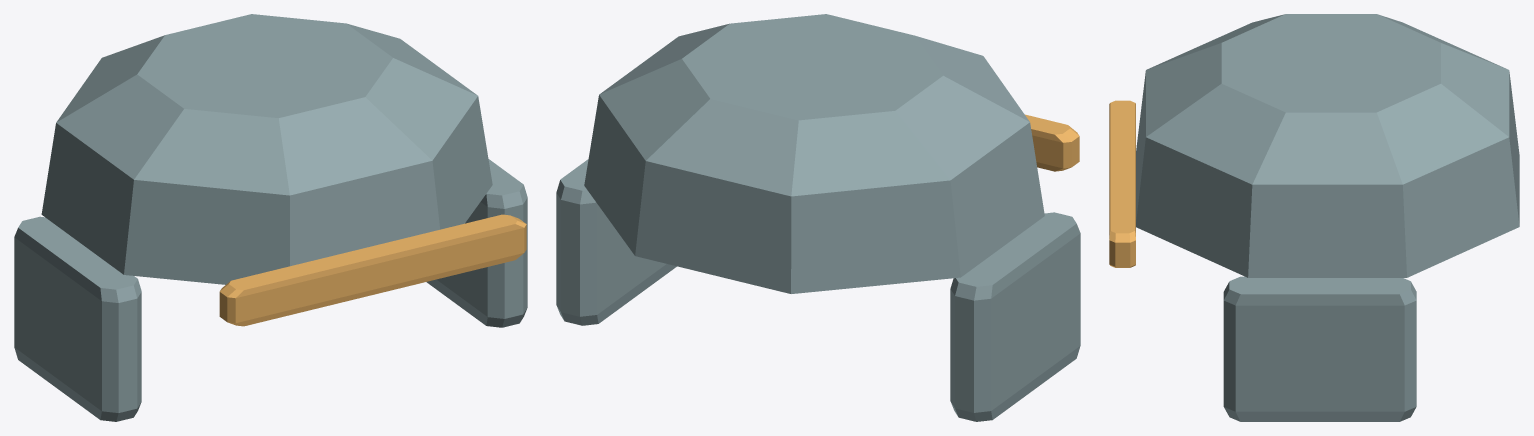
The model's file is SM_NPC_HEADGEAR_001_MilitaryHelmet.glb.
3 renders of one model, left to right at view 1: azimuth 30°, elevation 25°; view 2: azimuth 150°, elevation 25°; view 3: azimuth 270°, elevation 25°, orthographic. The views are drawn at different scales.
Parts seen in each view (by area): view 1: SM_NPC_HEADGEAR_001_MilitaryHelmet; view 2: SM_NPC_HEADGEAR_001_MilitaryHelmet; view 3: SM_NPC_HEADGEAR_001_MilitaryHelmet.
Part boxes in pixels (x1,y1,x2,y2): SM_NPC_HEADGEAR_001_MilitaryHelmet: (14, 14, 527, 421); SM_NPC_HEADGEAR_001_MilitaryHelmet: (556, 14, 1080, 421); SM_NPC_HEADGEAR_001_MilitaryHelmet: (1109, 14, 1519, 421).
Size of the model in its own units: 0.64 by 0.385 by 0.5527.
